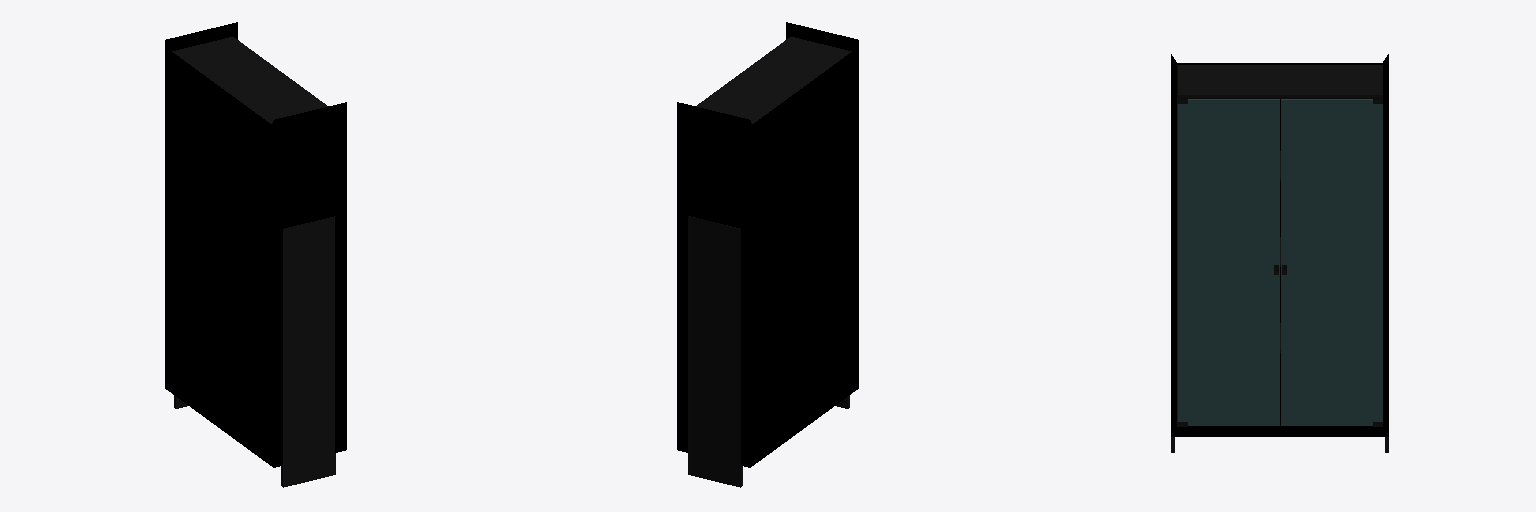
The model's file is Bookcase.obj.
3 renders of one model, left to right at view 1: azimuth 30°, elevation 25°; view 2: azimuth 150°, elevation 25°; view 3: azimuth 270°, elevation 25°, orthographic.
Visible parts, largest first — view 1: (null); view 2: (null); view 3: (null).
Boxes of the visible parts, x1=… form: (null): x1=165, y1=22, x2=346, y2=487; (null): x1=677, y1=22, x2=858, y2=487; (null): x1=1171, y1=54, x2=1388, y2=452.
Bounding box in the file's own units: 401 × 1927 × 1032.